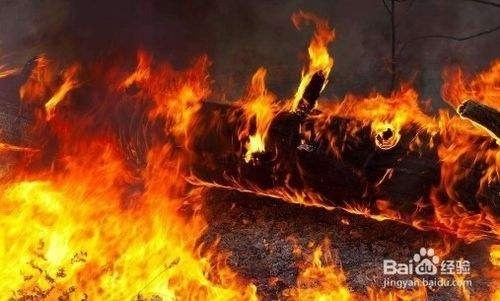fire: (1, 28, 431, 301)
